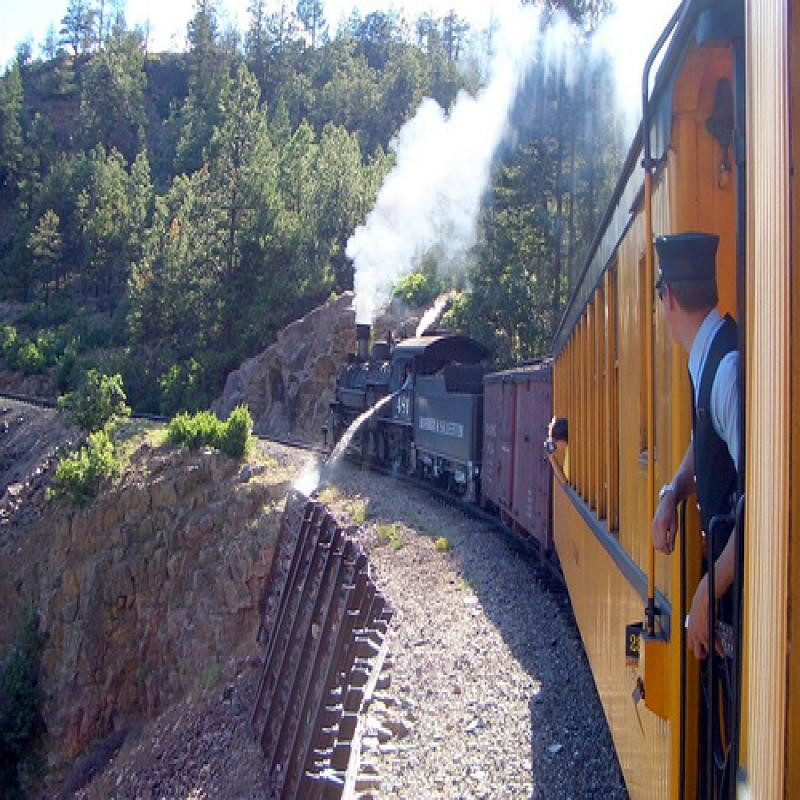train: (320, 1, 800, 794)
